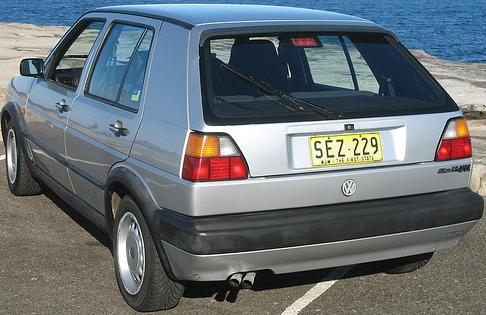back_view: (167, 112, 478, 249)
backlight: (172, 125, 263, 190)
side_glass: (39, 16, 145, 118)
